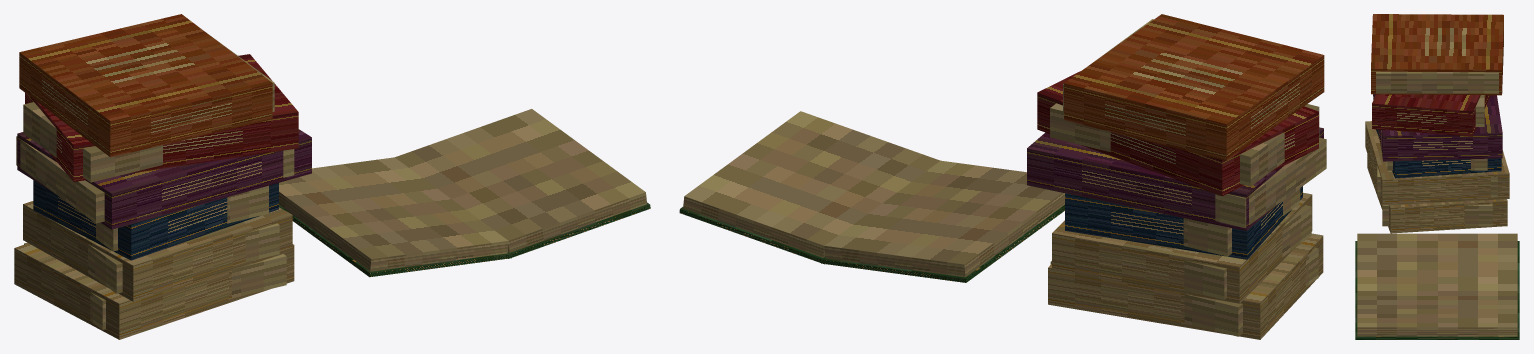
File: PSX_ShelvesPropsHorrorItemsBookPile.glb
The picture shows the model from 3 angles, left to right: view 1: azimuth 30°, elevation 25°; view 2: azimuth 150°, elevation 25°; view 3: azimuth 270°, elevation 25°; orthographic projection. The views are drawn at different scales.
Parts seen in each view (by area): view 1: BookPile; view 2: BookPile; view 3: BookPile.
Boxes of the visible parts, x1,y1,x2,y2 form: BookPile: (14,14,650,339); BookPile: (679,14,1326,339); BookPile: (1355,14,1519,339).
Size of the model in its own units: 0.5513 by 0.2156 by 0.205.
7 materials, 7 textured.
